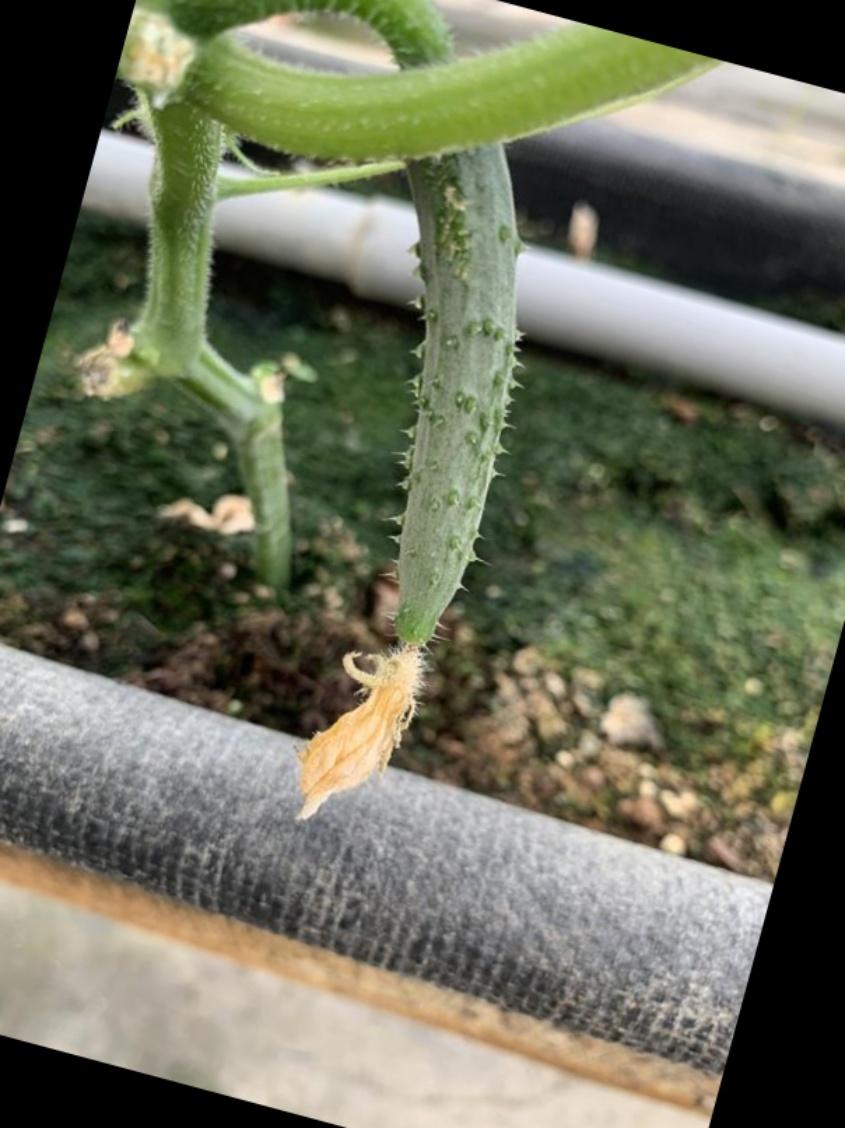bear: (272, 136, 566, 837)
